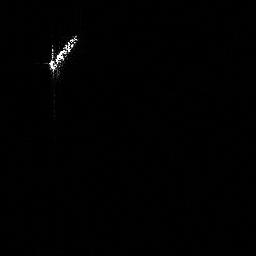ship: (44, 31, 83, 77)
